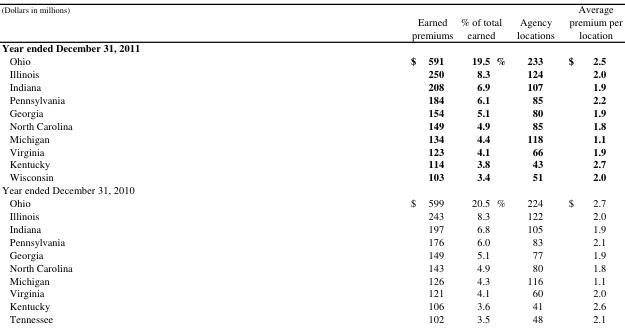table: (0, 0, 621, 325)
table column: (0, 0, 240, 325), (240, 0, 456, 325), (560, 0, 621, 325), (456, 0, 510, 325), (510, 0, 560, 325)
table column header: (0, 0, 621, 40)
table projected row header: (0, 40, 621, 54), (0, 183, 621, 195)
table row: (0, 0, 621, 40), (0, 40, 621, 54), (0, 311, 621, 325), (0, 66, 621, 79), (0, 79, 621, 92), (0, 92, 621, 105), (0, 105, 621, 118), (0, 118, 621, 131), (0, 131, 621, 144), (0, 144, 621, 157), (0, 157, 621, 170), (0, 170, 621, 183), (0, 195, 621, 208), (0, 208, 621, 221), (0, 221, 621, 234), (0, 234, 621, 247), (0, 247, 621, 260), (0, 260, 621, 273), (0, 285, 621, 298), (0, 298, 621, 311), (0, 54, 621, 66), (0, 183, 621, 195), (0, 273, 621, 285)
